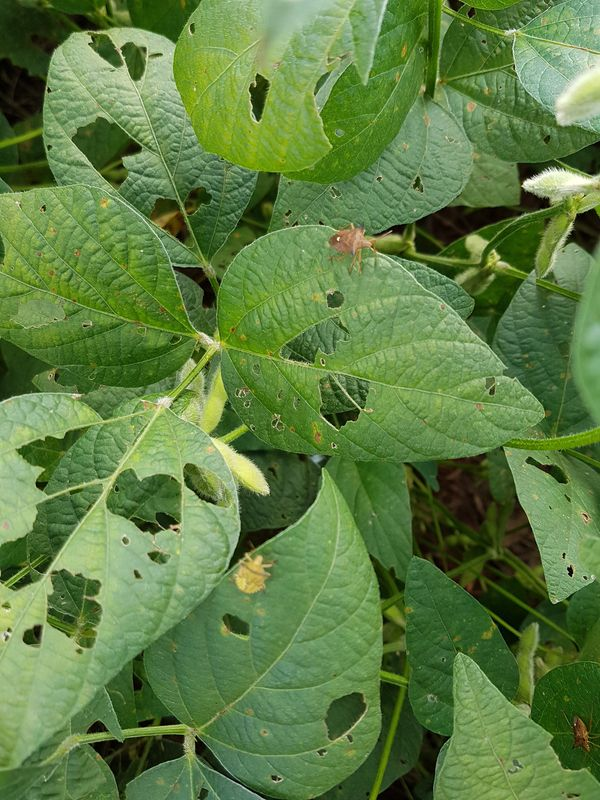Euschistus_heros_adulto: (322, 216, 396, 277), (556, 707, 600, 761)
Euschistus_heros_ninfa: (227, 544, 282, 601)
